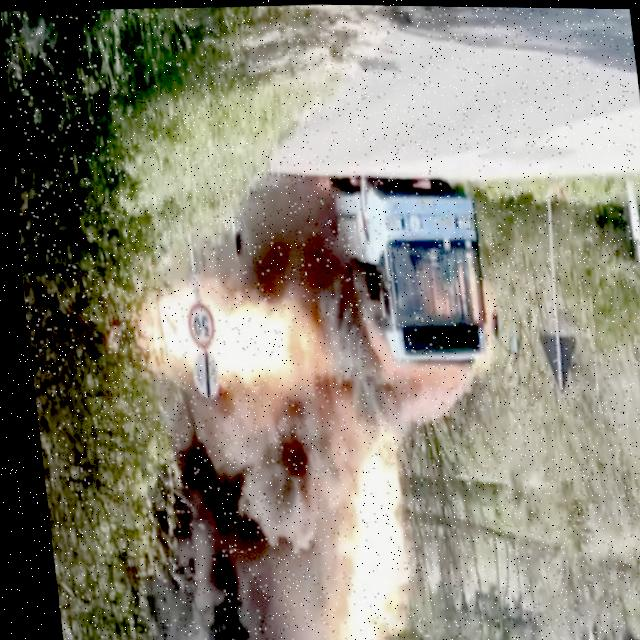Fire: (96, 280, 308, 392), (305, 459, 414, 640), (338, 318, 478, 428)
Smoke: (29, 404, 314, 640)
